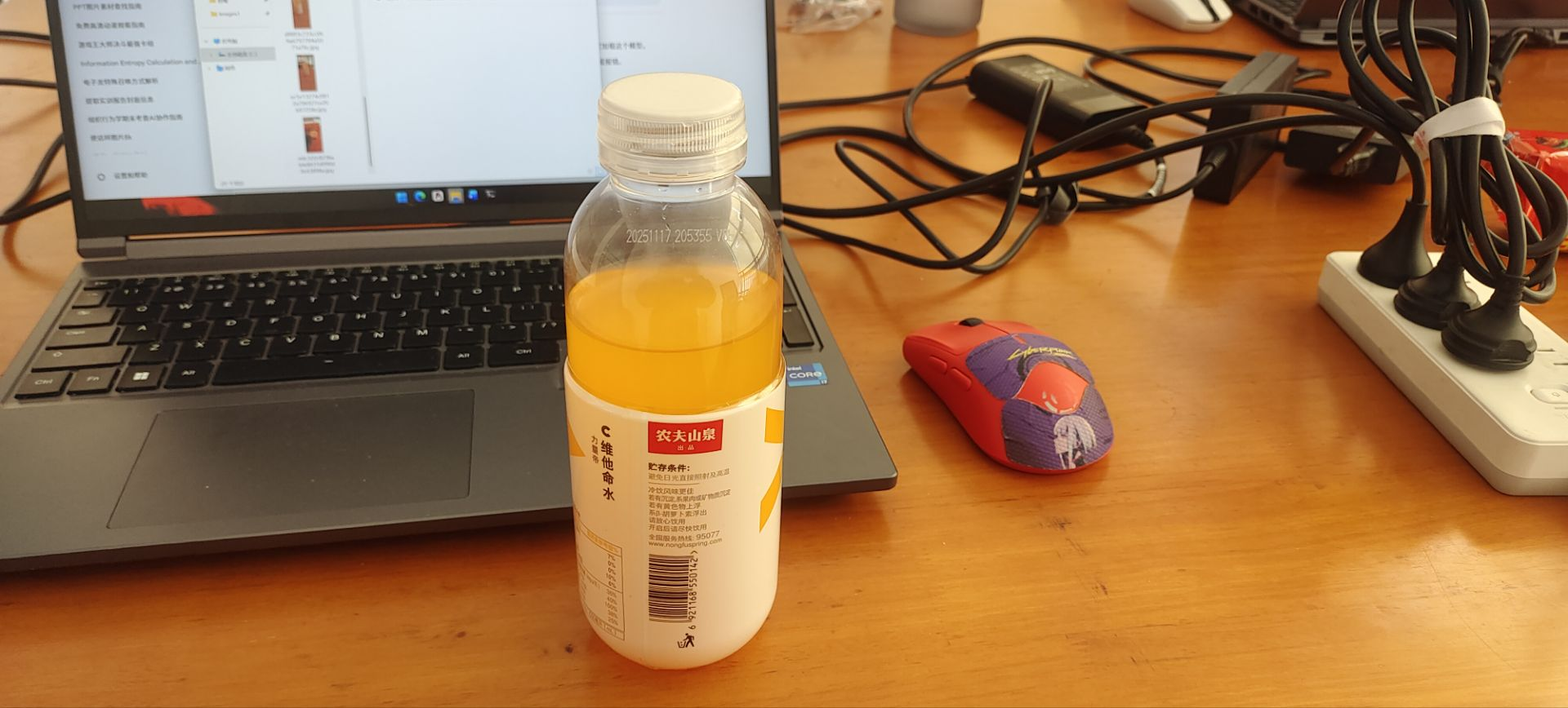redbull: (556, 81, 786, 652)
